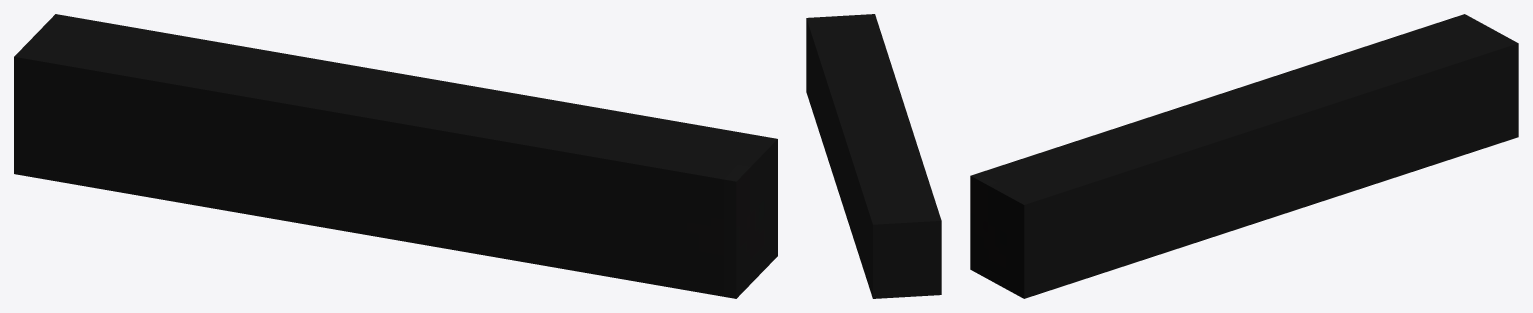
Rendered from frame__back_hinge_strut.glb.
3 renders of one model, left to right at view 1: azimuth 30°, elevation 25°; view 2: azimuth 150°, elevation 25°; view 3: azimuth 270°, elevation 25°, orthographic. The views are drawn at different scales.
Parts seen in each view (by area): view 1: world; view 2: world; view 3: world.
Part boxes in pixels (box(x1,y1,x2,y2)): world: box(14, 14, 777, 298); world: box(806, 14, 941, 298); world: box(970, 14, 1518, 298).
Size of the model in its own units: 0.2835 by 0.065 by 0.3437.
1 material, 1 textured.
